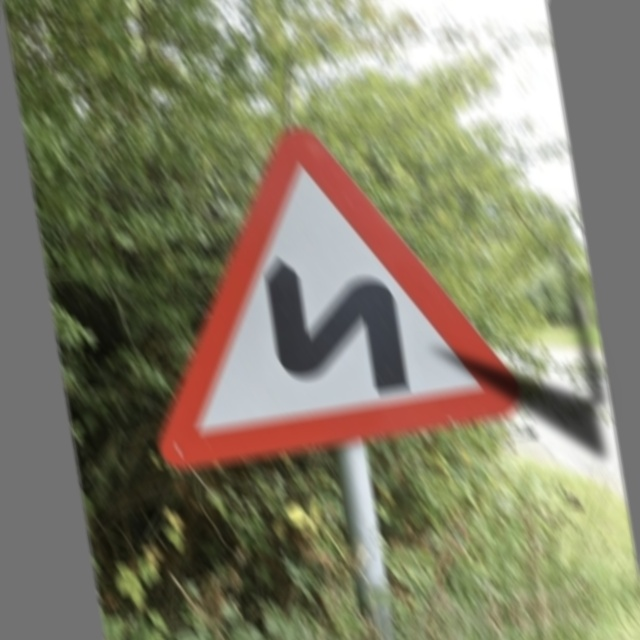Left_Reverse_Bend: (113, 100, 523, 470)
